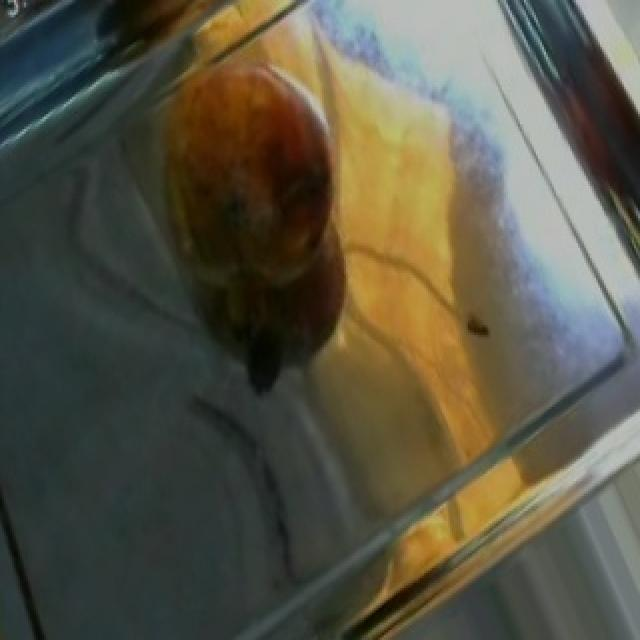fruit: (136, 37, 368, 305)
